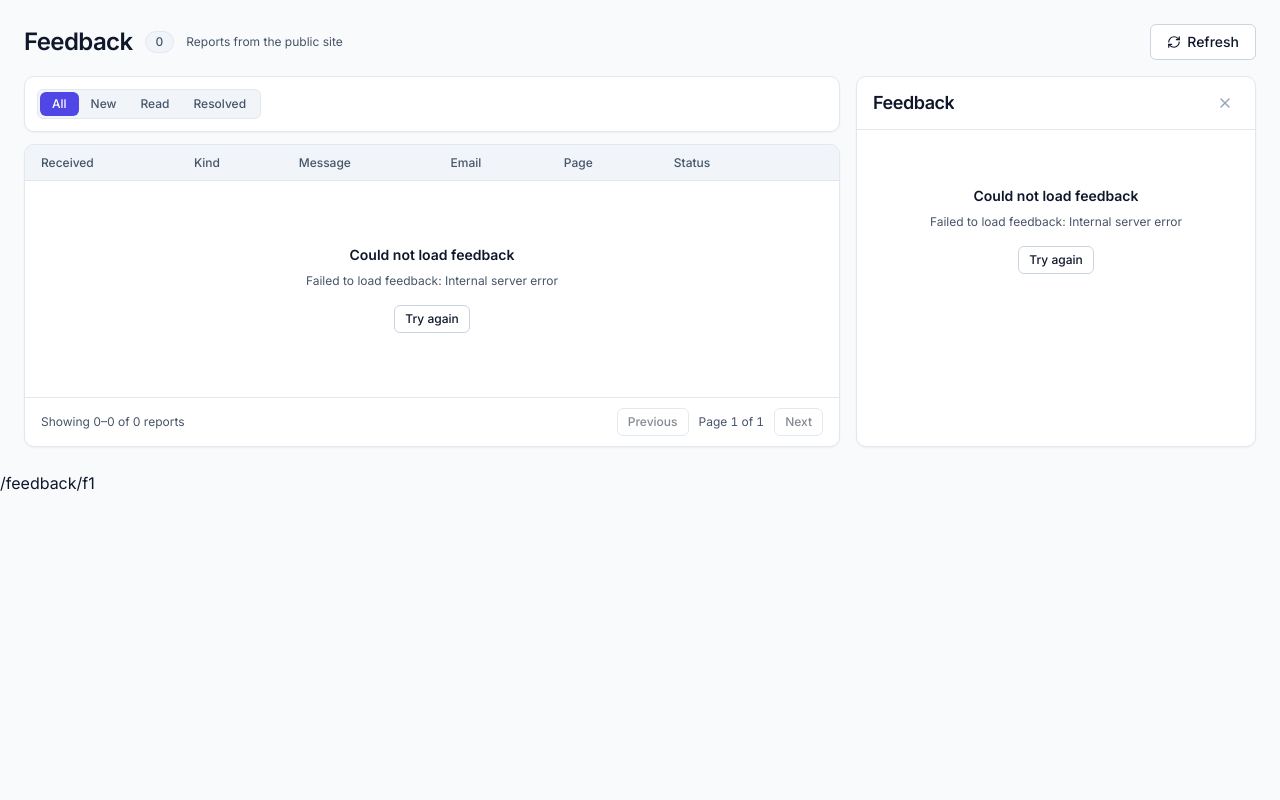
Feedback page › a failed list shows Could not load feedback with Try again, in the table and the panel
The image size is (1280, 800).
Expected: the 1st heading "Could not load feedback" is shown, left=974, top=186, right=1138, bottom=206
Expected: the heading "Could not load feedback" below "Received" is shown, left=350, top=246, right=514, bottom=263
Step 1. Click the 1st button "Try again" → (1056, 260), box left=1018, top=246, right=1094, bottom=274
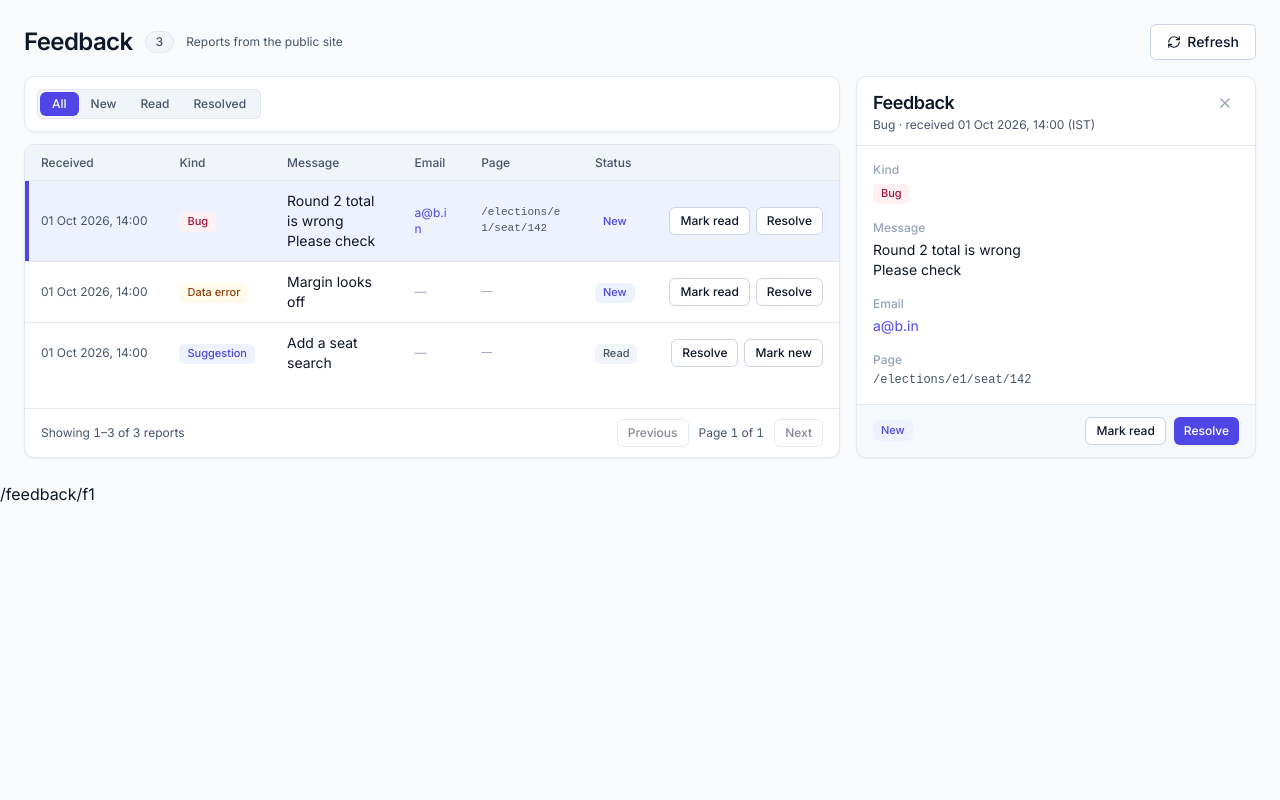
Expected: the text "Round 2 total is wrong Please check" below "Bug · received 01 Oct 2026, 14:00 (IST)" is shown, left=873, top=241, right=1021, bottom=278
